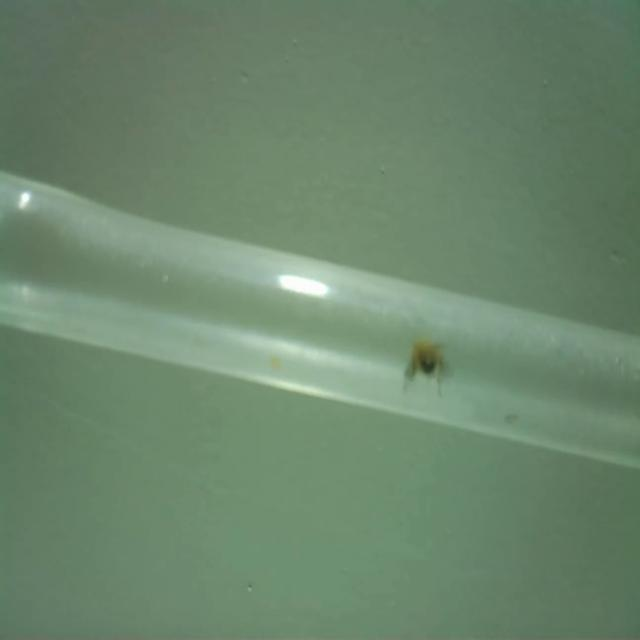Honeybee-Detection: (403, 333, 452, 396)
